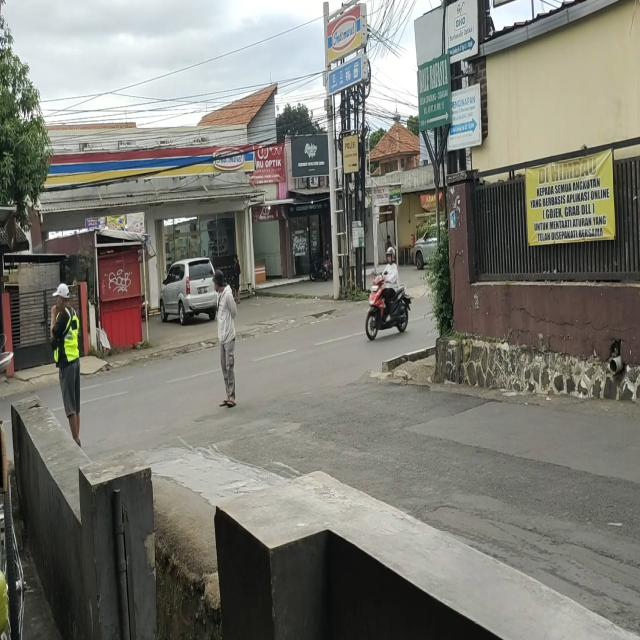helmet: (386, 248, 396, 264)
